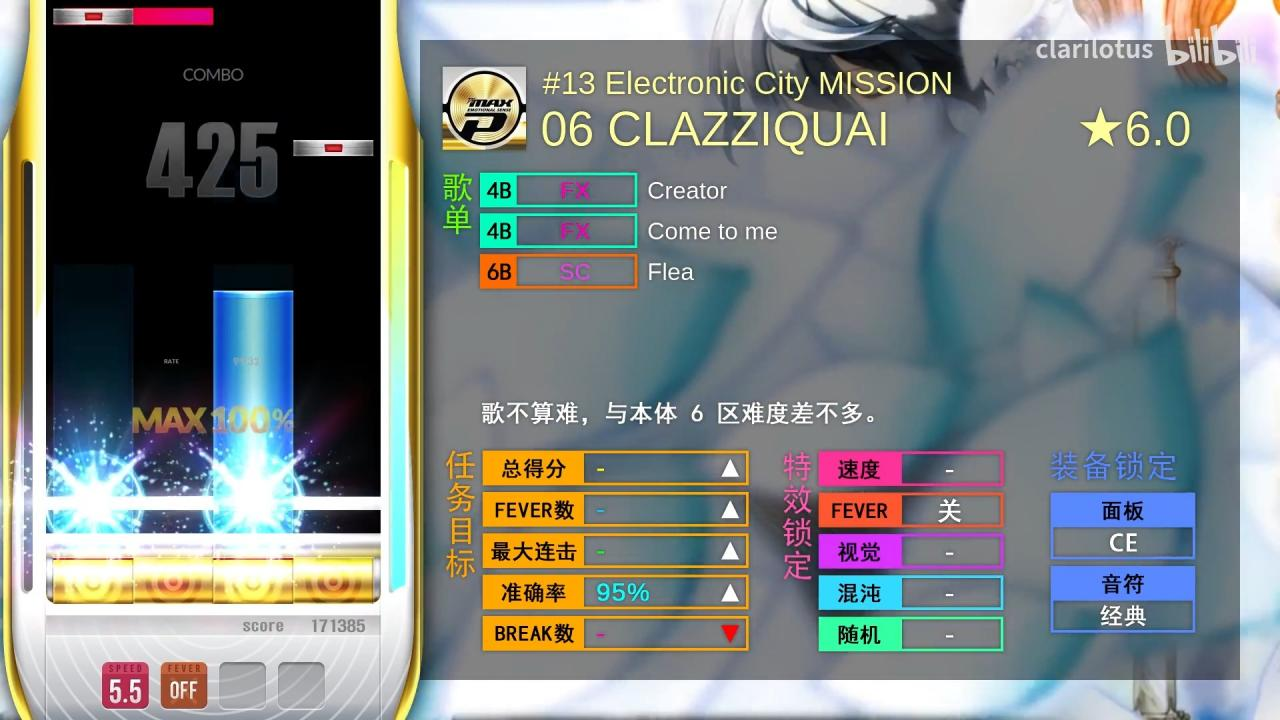hold-end: (214, 290, 294, 310)
note: (293, 139, 374, 157), (53, 8, 133, 25)
xnote: (54, 7, 213, 26)
